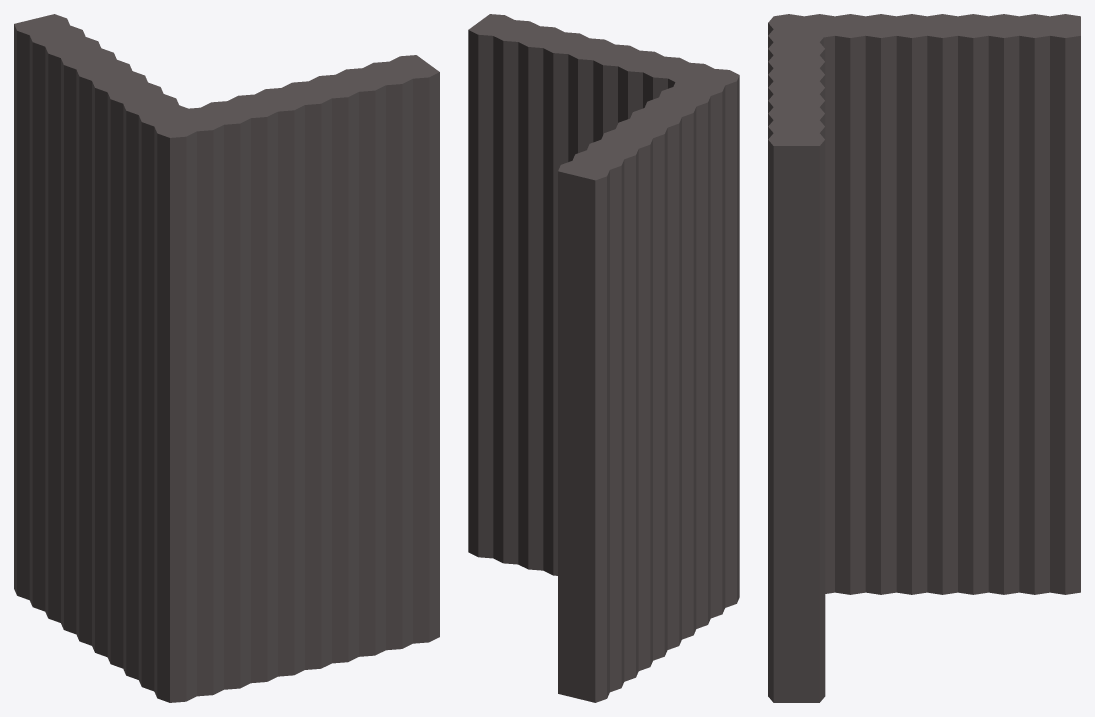
File: CorrugatedMetalCorner.glb
The picture shows the model from 3 angles, left to right: view 1: azimuth 30°, elevation 25°; view 2: azimuth 150°, elevation 25°; view 3: azimuth 270°, elevation 25°; orthographic projection. The views are drawn at different scales.
Parts seen in each view (by area): view 1: wall_corregated_corner; view 2: wall_corregated_corner; view 3: wall_corregated_corner.
Boxes of the visible parts, x1,y1,x2,y2 form: wall_corregated_corner: [14, 14, 439, 702]; wall_corregated_corner: [468, 14, 739, 702]; wall_corregated_corner: [768, 14, 1080, 702].
Size of what is drawn, in the model's own units: 2.04 by 4 by 2.04.
Materials: 1 (1 with a texture image).
